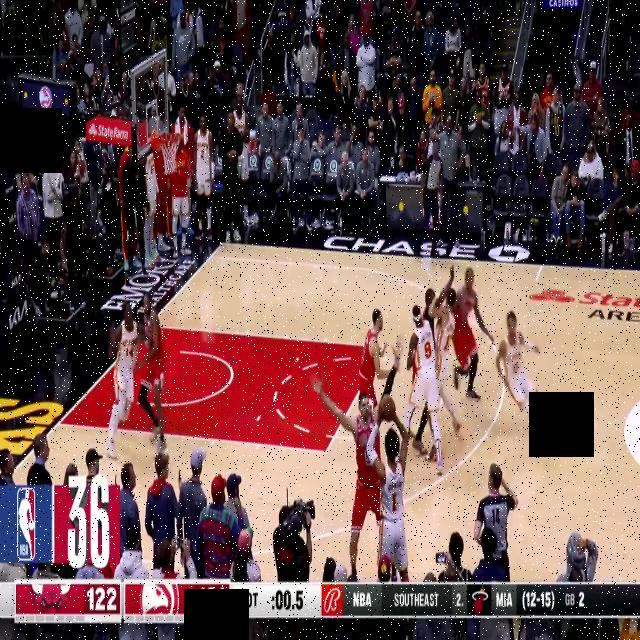Left Bottom Left Paint: (46, 404, 70, 442)
Left Bottom Right Paint: (314, 430, 340, 473)
Left Corner: (211, 224, 233, 264)
Left Tick: (534, 246, 550, 286)
Left Top Left Paint: (136, 306, 159, 346)
Left Top Right Paint: (374, 331, 389, 361)
